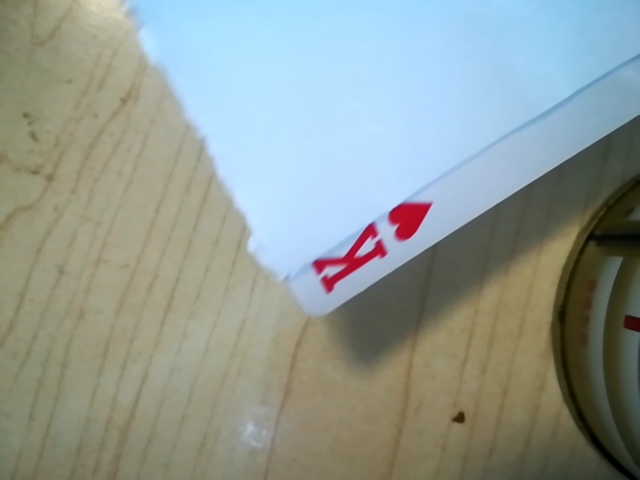hx k: (297, 196, 438, 309)
